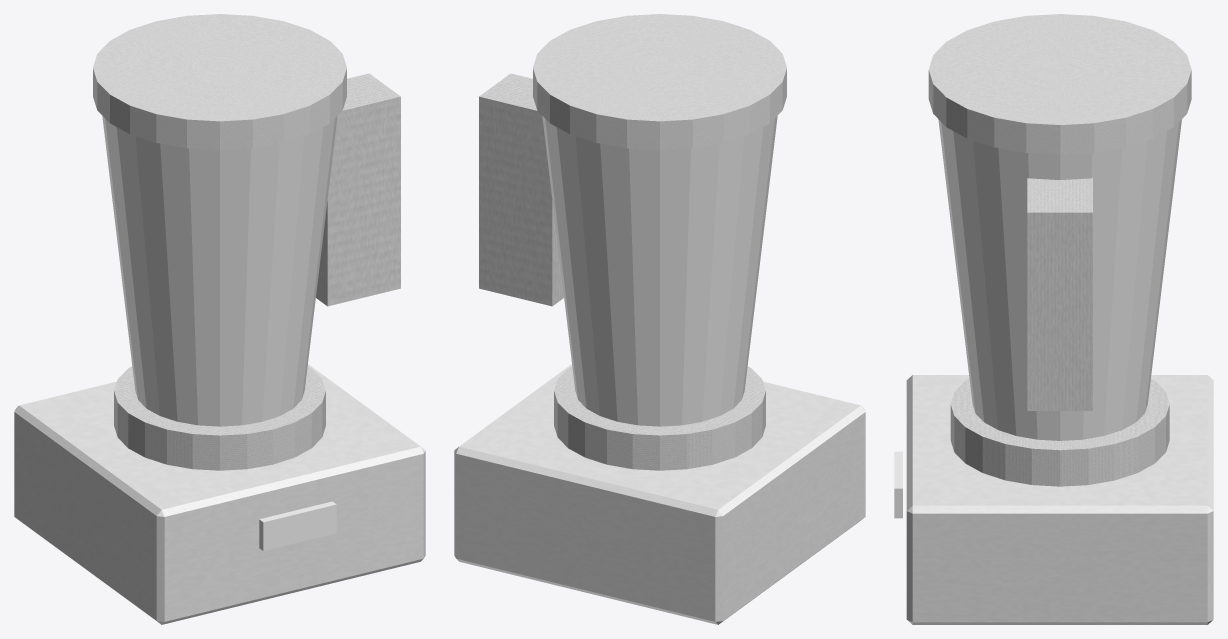
The model's file is kitchenblender.obj.
3 views of the same model, side by side, from view 1: azimuth 30°, elevation 25°; view 2: azimuth 150°, elevation 25°; view 3: azimuth 270°, elevation 25° (orthographic). The views are drawn at different scales.
Visible parts, largest first — view 1: Case, Glass, Black, Trim, Display; view 2: Case, Glass, Black, Trim; view 3: Case, Glass, Black, Trim, Display.
Boxes of the visible parts, bbox=[...] form: Case: bbox=[14, 364, 425, 624]; Glass: bbox=[102, 116, 337, 426]; Black: bbox=[93, 14, 346, 150]; Trim: bbox=[114, 73, 400, 470]; Display: bbox=[259, 501, 336, 550]; Case: bbox=[454, 364, 865, 624]; Glass: bbox=[542, 116, 777, 426]; Black: bbox=[533, 14, 786, 150]; Trim: bbox=[479, 73, 765, 470]; Case: bbox=[906, 375, 1213, 624]; Glass: bbox=[938, 119, 1181, 440]; Black: bbox=[928, 14, 1191, 154]; Trim: bbox=[950, 178, 1169, 486]; Display: bbox=[894, 451, 902, 518].
Size of the model in its own units: 0.49 by 0.74 by 0.437.
